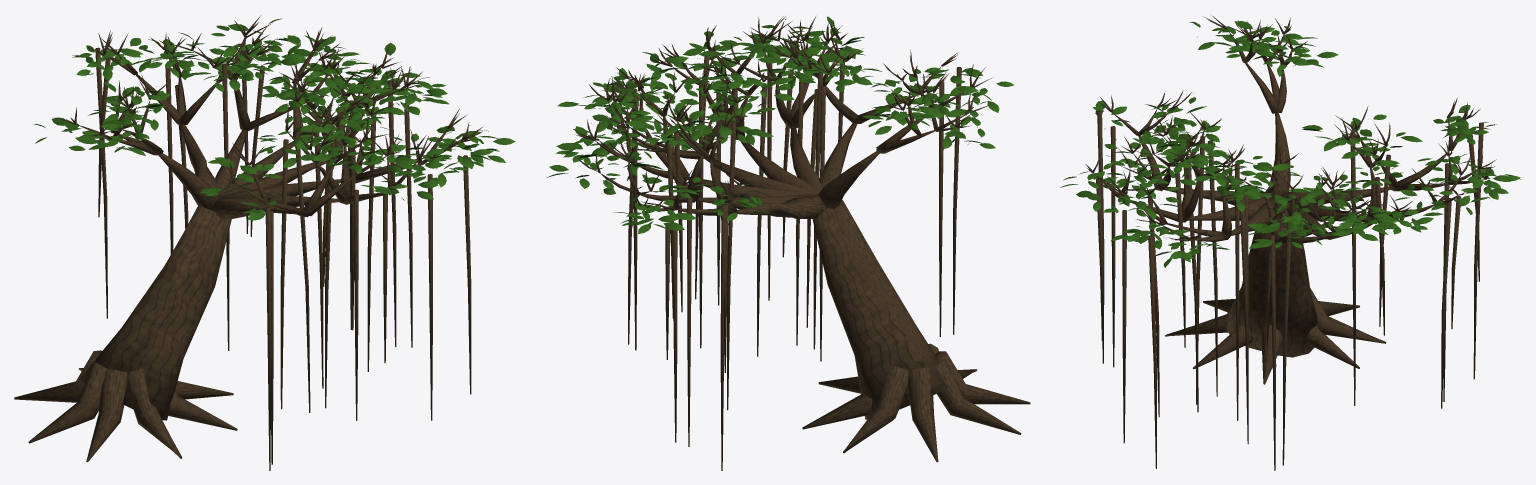
File: 01_banyan_v4_windswept.glb
The picture shows the model from 3 angles, left to right: view 1: azimuth 30°, elevation 25°; view 2: azimuth 150°, elevation 25°; view 3: azimuth 270°, elevation 25°; orthographic projection. The views are drawn at different scales.
Visible parts, largest first — view 1: 01_banyan_v4_windswept | Banyan | fissured warm bark, Banyan variant | leaf canopy.002; view 2: 01_banyan_v4_windswept | Banyan | fissured warm bark, Banyan variant | leaf canopy.002; view 3: 01_banyan_v4_windswept | Banyan | fissured warm bark, Banyan variant | leaf canopy.002.
Part boxes in pixels (x1,y1,x2,y2): 01_banyan_v4_windswept | Banyan | fissured warm bark: (14,15,483,470); Banyan variant | leaf canopy.002: (34,18,515,220); 01_banyan_v4_windswept | Banyan | fissured warm bark: (573,16,1030,470); Banyan variant | leaf canopy.002: (547,16,1014,233); 01_banyan_v4_windswept | Banyan | fissured warm bark: (1085,14,1496,470); Banyan variant | leaf canopy.002: (1060,21,1521,267).
Bounding box in the file's own units: 6.59 × 5.04 × 6.47.
3 materials, 3 textured.
